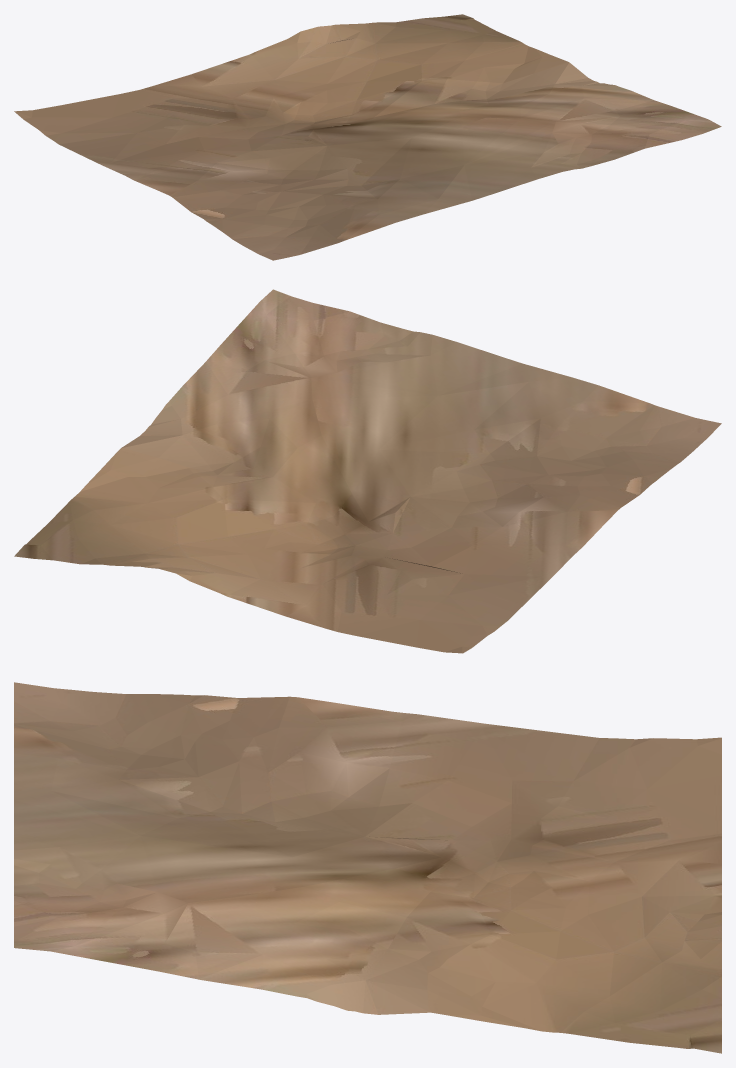
3 views of the same model, one above another, from view 1: azimuth 30°, elevation 25°; view 2: azimuth 150°, elevation 25°; view 3: azimuth 270°, elevation 25° (orthographic). The views are drawn at different scales.
Bounding box in the file's own units: 1.04 × 0.1719 × 1.04.
2 materials, 2 textured.
